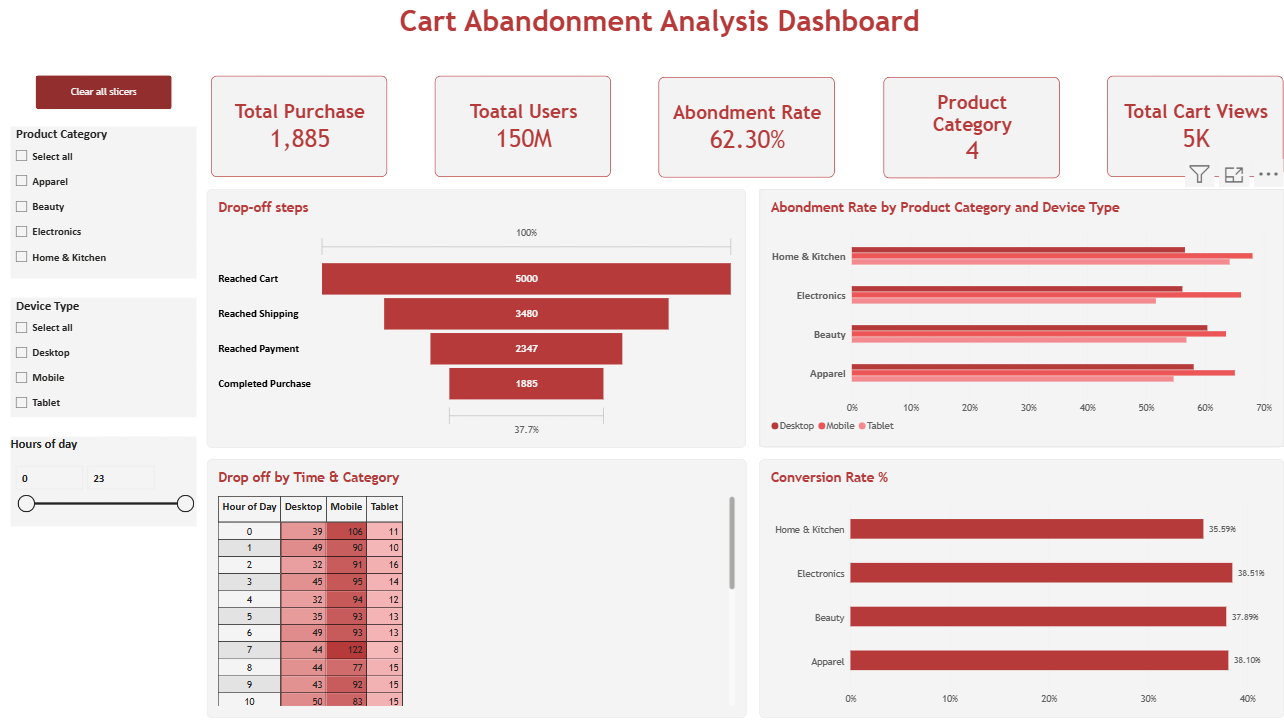

The dashboard page shown, as its layout file describes it:
{"tool":"powerbi","page":{"name":"Cart Abandonment Analysis Dashboard","canvas":[1920,1080],"ordinal":0},"visuals":[{"type":"textbox","box":[214.6,21.7,1527.3,78.2],"z":0},{"type":"cardVisual","fields":{"Data":["Measures (2).Total Purchase"]},"box":[318.6,125.7,260,150.3],"z":1},{"type":"cardVisual","fields":{"Data":["Measures (2).Toatal Users"]},"box":[647.6,125.7,260,150.3],"z":2},{"type":"cardVisual","fields":{"Data":["Measures (2).Abondment Rate"]},"box":[976.5,127.9,260,149.6],"z":3},{"type":"cardVisual","fields":{"Data":["Count(cart_abandonment_full_data.Product Category)"]},"box":[1305.4,127.9,260,150.3],"z":4},{"type":"cardVisual","fields":{"Data":["Measures (2).Total Cart Views"]},"box":[1634.3,125.7,260,150.3],"z":5},{"type":"funnel","title":"Drop-off steps","fields":{"Y":["Sum(cart_abandonment_full_data.Reached Cart)","Sum(cart_abandonment_full_data.Reached Shipping)","Sum(cart_abandonment_full_data.Reached Payment)","Sum(cart_abandonment_full_data.Completed Purchase)"]},"box":[314.3,293,791.2,380],"z":6},{"type":"clusteredBarChart","fields":{"Category":["cart_abandonment_full_data.Product Category"],"Series":["cart_abandonment_full_data.Device Type"],"Y":["Measures (2).Abondment Rate"]},"box":[1125,292.6,769.5,379.3],"z":7},{"type":"pivotTable","title":"Drop off by Time & Category","fields":{"Columns":["cart_abandonment_full_data.Device Type"],"Rows":["cart_abandonment_full_data.Hour of Day"],"Values":["Measures (2).Abandoned Sessions"]},"box":[313.7,689.7,792.4,379.7],"z":8},{"type":"barChart","title":"Conversion Rate % ","fields":{"Category":["cart_abandonment_full_data.Product Category"],"Y":["Measures (2).Conversion Rate %"]},"box":[1124.4,689.7,770.4,379.7],"z":9},{"type":"slicer","fields":{"Values":["cart_abandonment_full_data.Product Category"]},"box":[26,201.6,273.1,223.3],"z":10},{"type":"slicer","fields":{"Values":["cart_abandonment_full_data.Device Type"]},"box":[26,453,273.1,175.6],"z":11},{"type":"slicer","title":"Hours of day","fields":{"Values":["cart_abandonment_full_data.Hour of Day"]},"box":[26,656.8,273.1,132.2],"z":12},{"type":"actionButton","box":[62.9,125.7,200,50],"z":13}]}

Visuals, with their boxes in screenshot pixels (x1, y1, x2, y2), scaled from the page's 1920x1080 canvas onto the 1284x720 screenshot:
textbox: <bbox>144, 14, 1165, 67</bbox>
cardVisual - Measures (2).Total Purchase: <bbox>213, 84, 387, 184</bbox>
cardVisual - Measures (2).Toatal Users: <bbox>433, 84, 607, 184</bbox>
cardVisual - Measures (2).Abondment Rate: <bbox>653, 85, 827, 185</bbox>
cardVisual - Count(cart_abandonment_full_data.Product Category): <bbox>873, 85, 1047, 185</bbox>
cardVisual - Measures (2).Total Cart Views: <bbox>1093, 84, 1267, 184</bbox>
"Drop-off steps" funnel: <bbox>210, 195, 739, 449</bbox>
clusteredBarChart - cart_abandonment_full_data.Product Category x cart_abandonment_full_data.Device Type: <bbox>752, 195, 1267, 448</bbox>
"Drop off by Time & Category" pivotTable: <bbox>210, 460, 740, 713</bbox>
"Conversion Rate % " barChart: <bbox>752, 460, 1267, 713</bbox>
slicer - cart_abandonment_full_data.Product Category: <bbox>17, 134, 200, 283</bbox>
slicer - cart_abandonment_full_data.Device Type: <bbox>17, 302, 200, 419</bbox>
"Hours of day" slicer: <bbox>17, 438, 200, 526</bbox>
actionButton: <bbox>42, 84, 176, 117</bbox>
